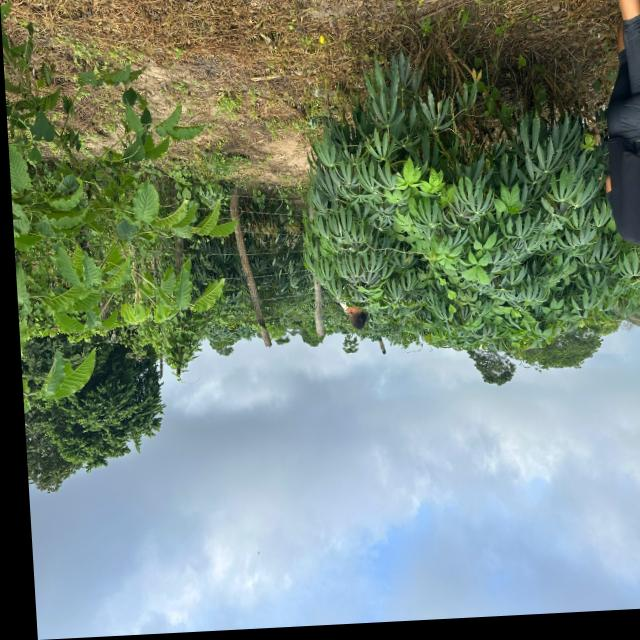Maleza: (0, 57, 220, 326), (510, 309, 562, 357), (458, 249, 493, 286), (492, 178, 525, 217), (398, 155, 431, 192), (390, 202, 419, 239), (418, 170, 450, 200), (383, 183, 407, 203)
